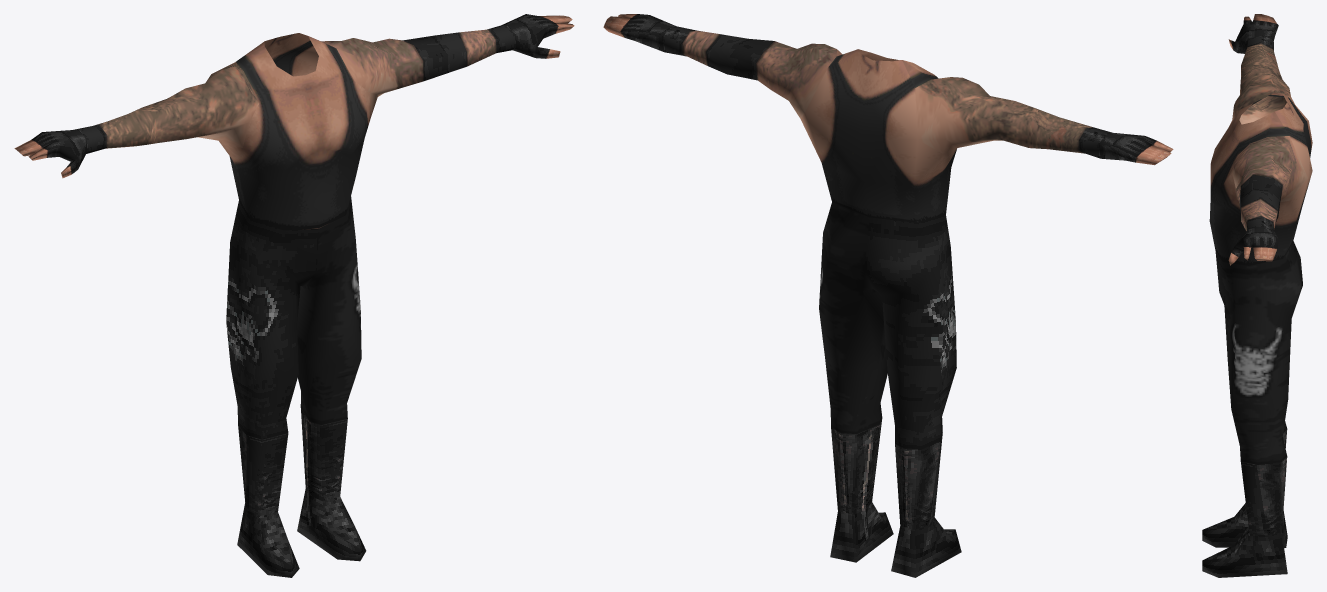
File: Taker_B.obj
The picture shows the model from 3 angles, left to right: view 1: azimuth 30°, elevation 25°; view 2: azimuth 150°, elevation 25°; view 3: azimuth 270°, elevation 25°; orthographic projection. The views are drawn at different scales.
Parts seen in each view (by area): view 1: Taker_B.001; view 2: Taker_B.001; view 3: Taker_B.001.
Part boxes in pixels (bbox=[...]): Taker_B.001: bbox=[14, 14, 574, 577]; Taker_B.001: bbox=[603, 14, 1173, 577]; Taker_B.001: bbox=[1202, 14, 1312, 577].
Bounding box in the file's own units: 19.53 × 16.93 × 3.72.
11 materials, 11 textured.
